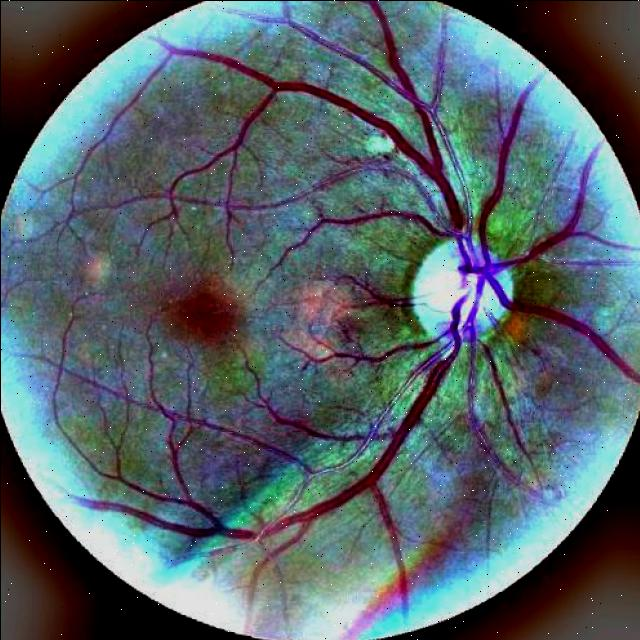Macula: (183, 292, 227, 330)
Nerves: (436, 79, 628, 388), (306, 312, 458, 517), (299, 84, 462, 226), (501, 299, 628, 373), (369, 0, 413, 95), (383, 390, 423, 457), (406, 274, 440, 314), (431, 274, 449, 290)
Optic Disk: (236, 155, 340, 269)
